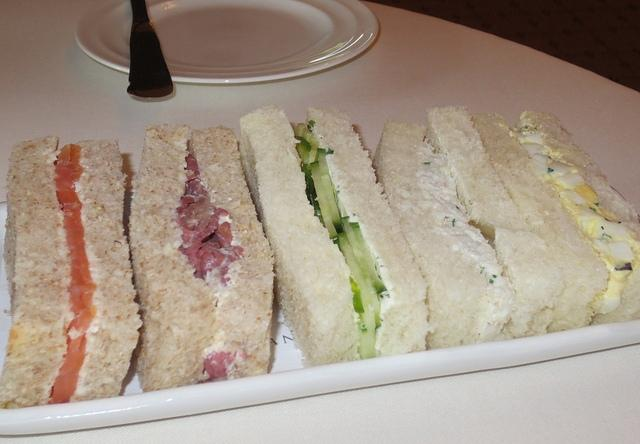cucumber: (341, 216, 382, 330), (350, 222, 388, 295), (310, 160, 340, 248), (318, 148, 342, 226), (350, 275, 370, 360), (359, 291, 376, 358), (294, 122, 319, 163), (294, 136, 312, 170), (301, 164, 314, 204)
tomato: (56, 144, 96, 330), (48, 374, 78, 405)
